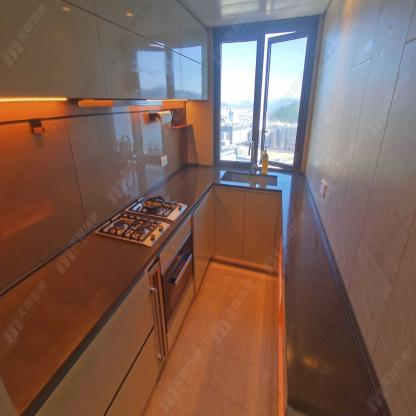Exhaust Hood: (77, 99, 163, 107)
Faucet: (248, 138, 257, 171)
Oven: (161, 229, 194, 336)
Sink: (211, 165, 282, 189)
Stove: (87, 192, 197, 252)
